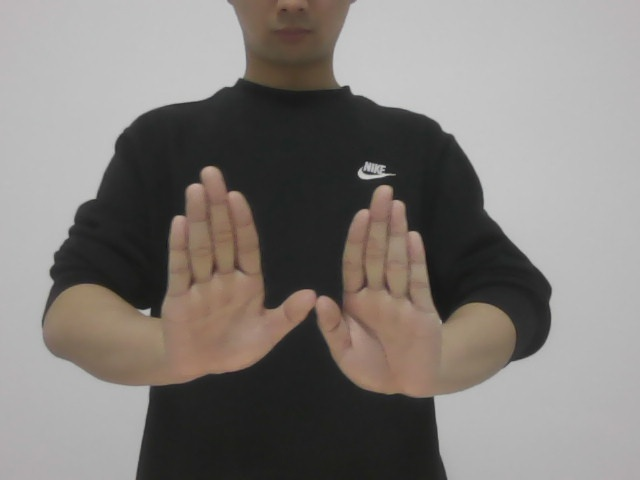door: (124, 150, 447, 406)
